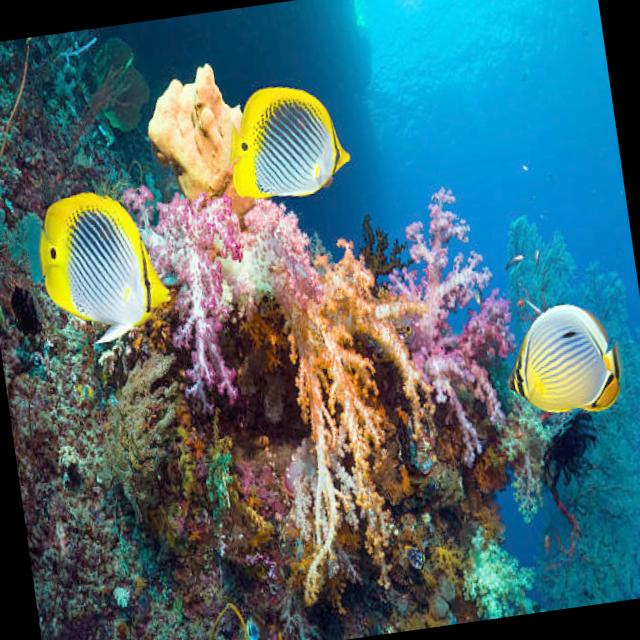ButterflyFish: (32, 182, 177, 354), (223, 76, 354, 206), (502, 298, 626, 432)
